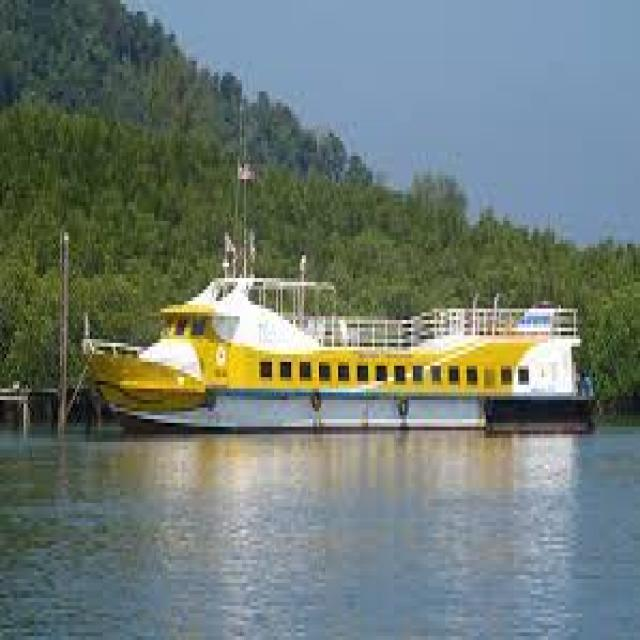passenger ship: (87, 176, 581, 455)
